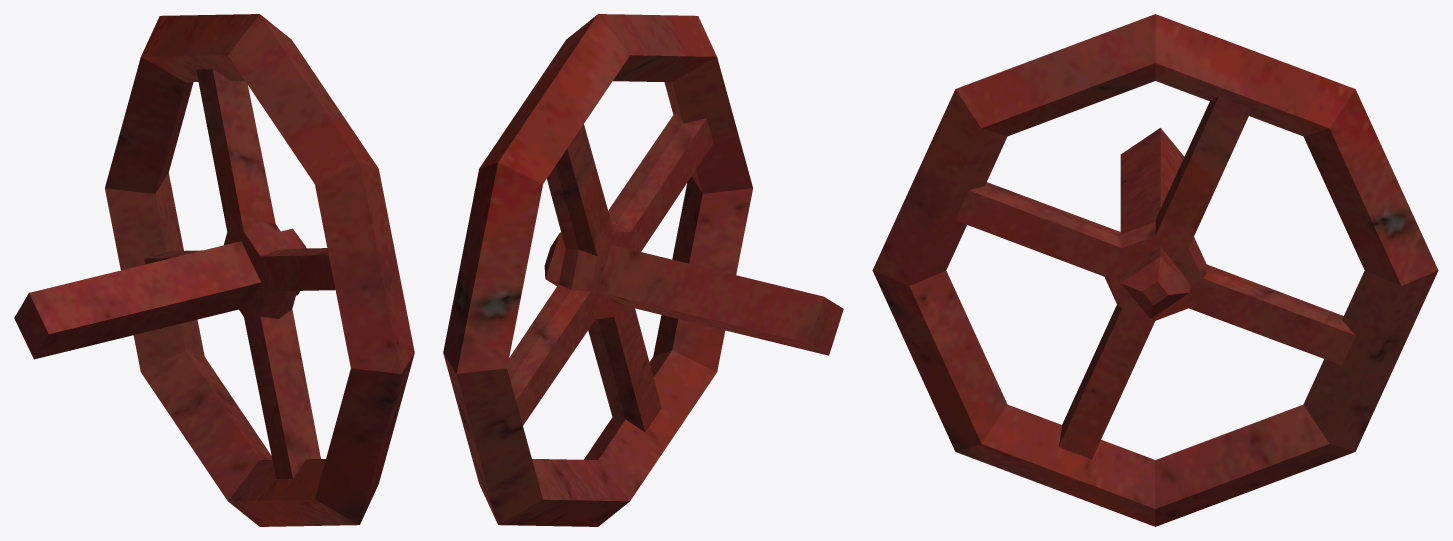
The model's file is Urban_ValveRedWithHandle_Model.fbx.
3 views of the same model, side by side, from view 1: azimuth 30°, elevation 25°; view 2: azimuth 150°, elevation 25°; view 3: azimuth 270°, elevation 25° (orthographic).
Parts seen in each view (by area): view 1: Urban_ValveRedWithHandle_Mesh; view 2: Urban_ValveRedWithHandle_Mesh; view 3: Urban_ValveRedWithHandle_Mesh.
Boxes of the visible parts, x1,y1,x2,y2 form: Urban_ValveRedWithHandle_Mesh: (14,14,414,526); Urban_ValveRedWithHandle_Mesh: (443,14,843,526); Urban_ValveRedWithHandle_Mesh: (872,14,1438,526).
Size of the model in its own units: 0.234 by 0.4167 by 0.4167.
